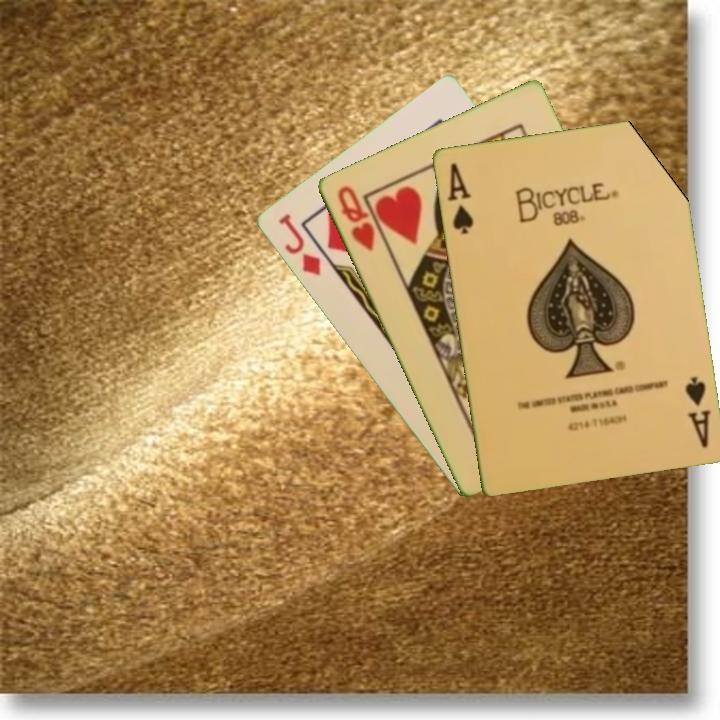As: (681, 372, 713, 451), (444, 159, 476, 237)
Jd: (274, 209, 324, 279)
Qh: (333, 182, 378, 254)
